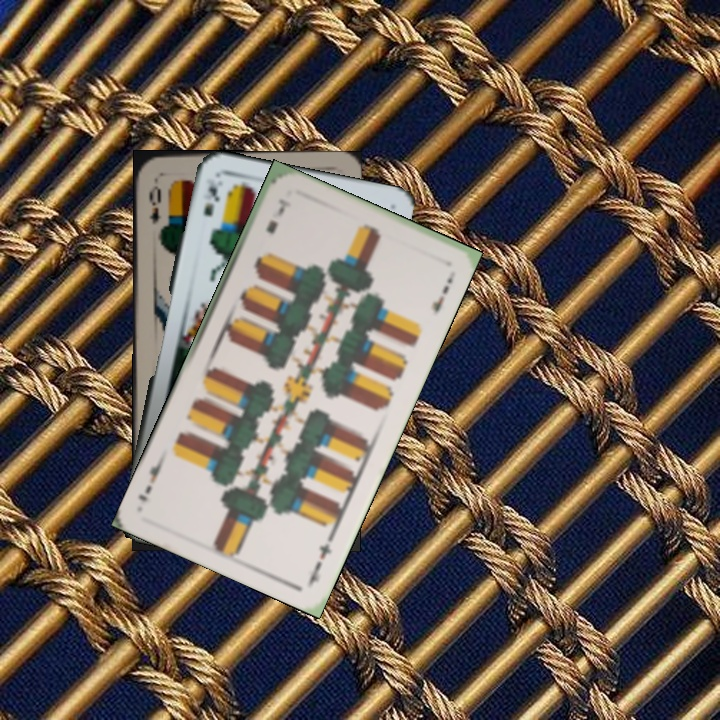E7: (305, 530, 337, 586), (262, 195, 292, 237)
EK: (199, 179, 221, 219)
EO: (145, 175, 164, 226)
